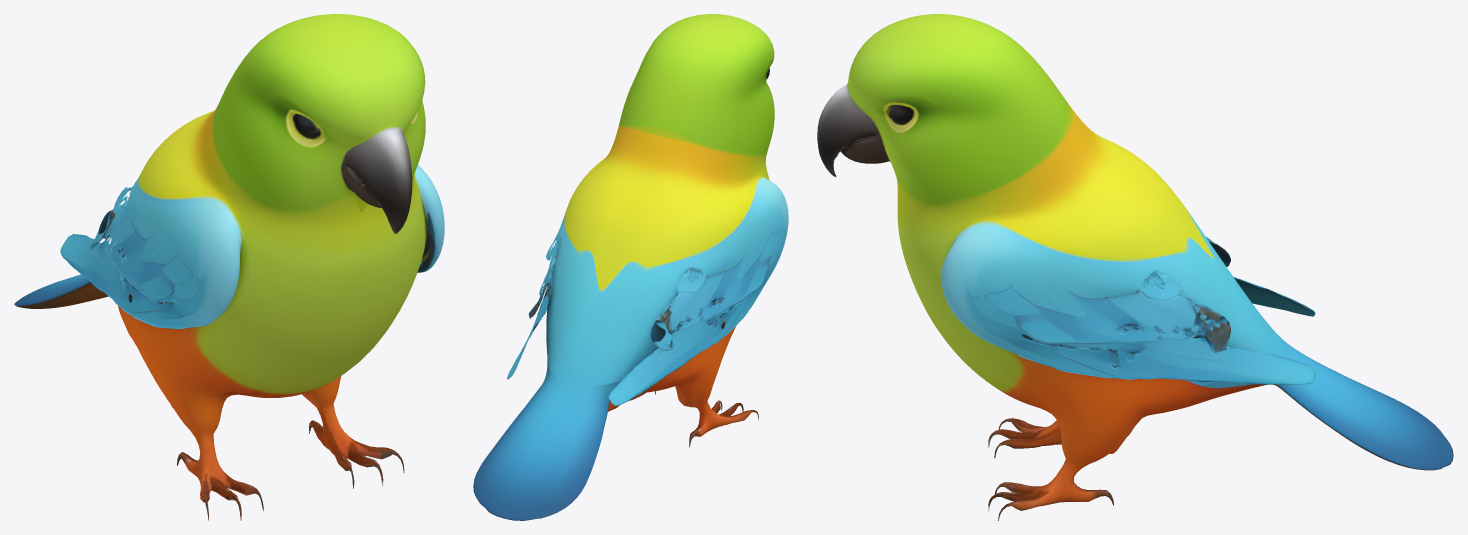
Rendered from orangeBelliedParrot.glb.
3 renders of one model, left to right at view 1: azimuth 30°, elevation 25°; view 2: azimuth 150°, elevation 25°; view 3: azimuth 270°, elevation 25°, orthographic. The views are drawn at different scales.
Parts seen in each view (by area): view 1: model; view 2: model; view 3: model.
Part boxes in pixels (bbox=[...]): model: bbox=[14, 14, 444, 520]; model: bbox=[473, 14, 788, 520]; model: bbox=[817, 14, 1453, 520].
Bounding box in the file's own units: 0.794 × 1.5 × 1.9.
1 material, 1 textured.
